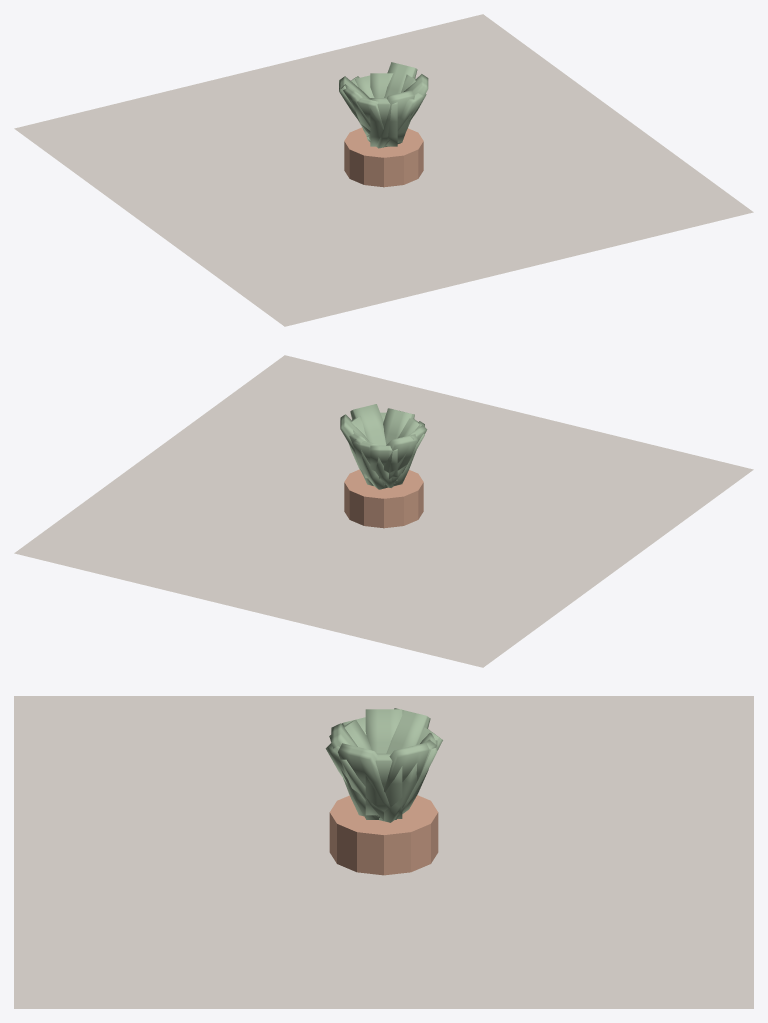
3 views of the same model, one above another, from view 1: azimuth 30°, elevation 25°; view 2: azimuth 150°, elevation 25°; view 3: azimuth 270°, elevation 25° (orthographic). The views are drawn at different scales.
Size of the model in its own units: 3 by 0.5594 by 3.
